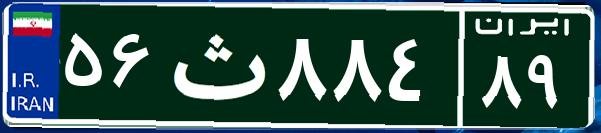4: (385, 28, 445, 110)
5: (57, 26, 110, 107)
6: (110, 28, 158, 105)
8: (273, 28, 330, 110), (330, 28, 385, 110), (475, 38, 525, 113)
9: (525, 38, 570, 115)
ث: (158, 15, 273, 115)
